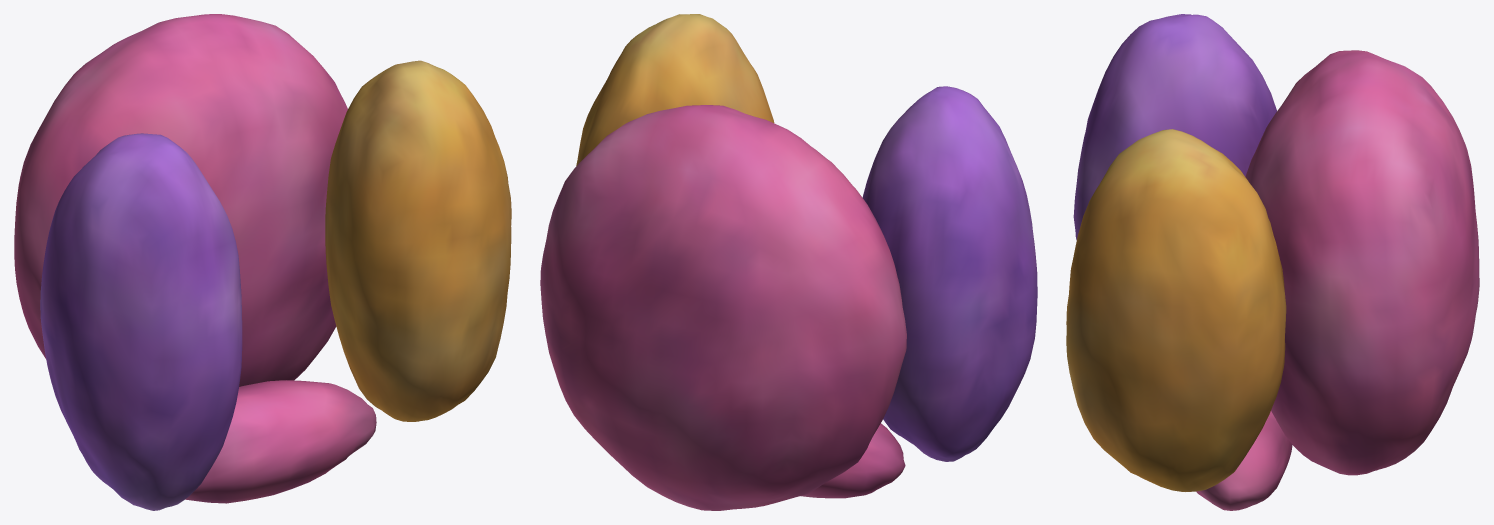
File: dna-polymerase.glb
3 renders of one model, left to right at view 1: azimuth 30°, elevation 25°; view 2: azimuth 150°, elevation 25°; view 3: azimuth 270°, elevation 25°, orthographic.
Parts seen in each view (by area): view 1: dna-polymerase-palm, dna-polymerase-fingers, dna-polymerase-thumb; view 2: dna-polymerase-palm, dna-polymerase-fingers, dna-polymerase-thumb; view 3: dna-polymerase-palm, dna-polymerase-thumb, dna-polymerase-fingers.
Boxes of the visible parts, <box> form: dna-polymerase-palm: <box>14,14,376,503</box>; dna-polymerase-fingers: <box>40,133,242,510</box>; dna-polymerase-thumb: <box>325,60,511,421</box>; dna-polymerase-palm: <box>540,105,906,510</box>; dna-polymerase-fingers: <box>862,86,1037,461</box>; dna-polymerase-thumb: <box>576,14,774,165</box>; dna-polymerase-palm: <box>1196,50,1479,510</box>; dna-polymerase-thumb: <box>1066,129,1286,491</box>; dna-polymerase-fingers: <box>1073,14,1276,239</box>.
Size of what is drawn, in the model's own units: 1.84 by 1.73 by 1.55.
